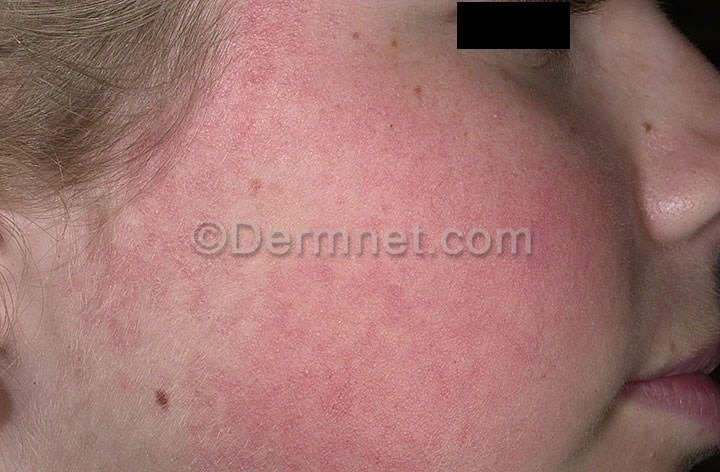Eczema: (114, 17, 629, 461)
